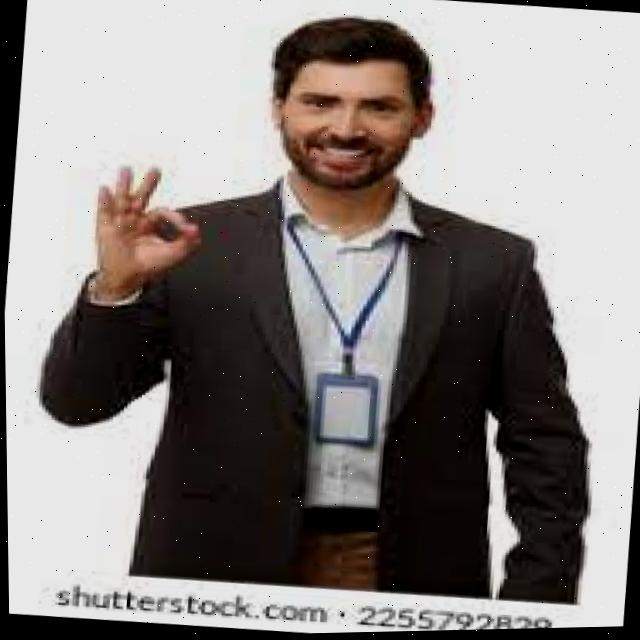id_card: (268, 221, 414, 465)
